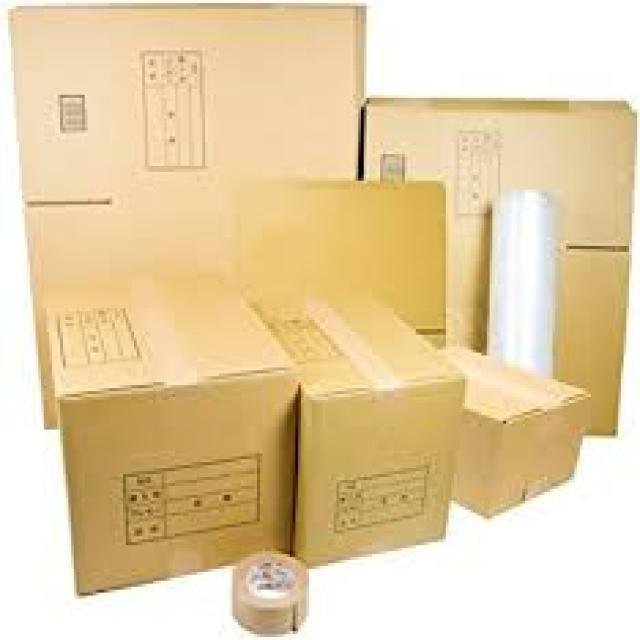Cardboard: (16, 0, 640, 591)
